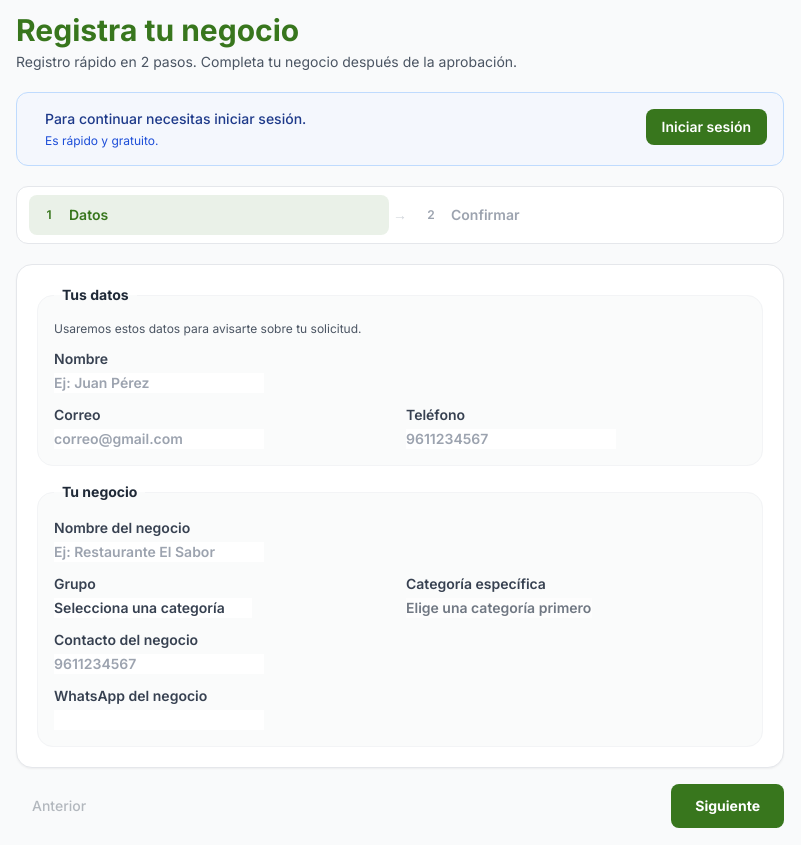
Scenario: BusinessWizard - Category Selection Bug Fix › Category dropdown state › should enable category select after group selection
The width and height of the screenshot is (801, 845).
Expected: the dropdown labelled "Categoría específica" is disabled, [406,598,592,618]
// Select group
Select "🍽️ Comida y Bebida" in the dropdown labelled "Grupo": (153, 608) [54,598,252,618]
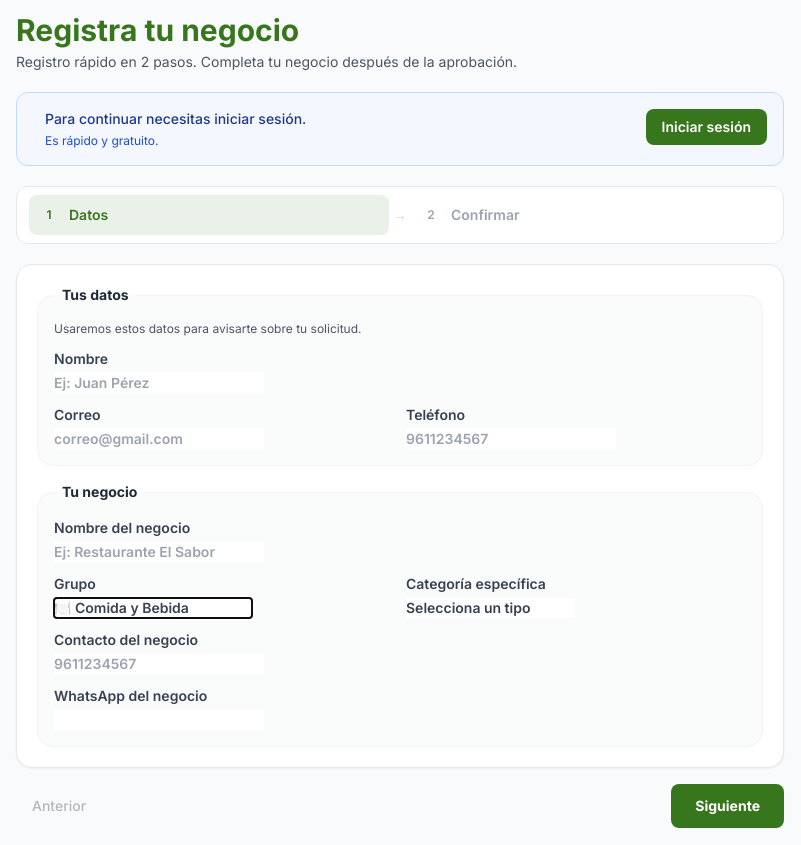
Now the dropdown labelled "Categoría específica" is enabled, box [406,598,575,618]
